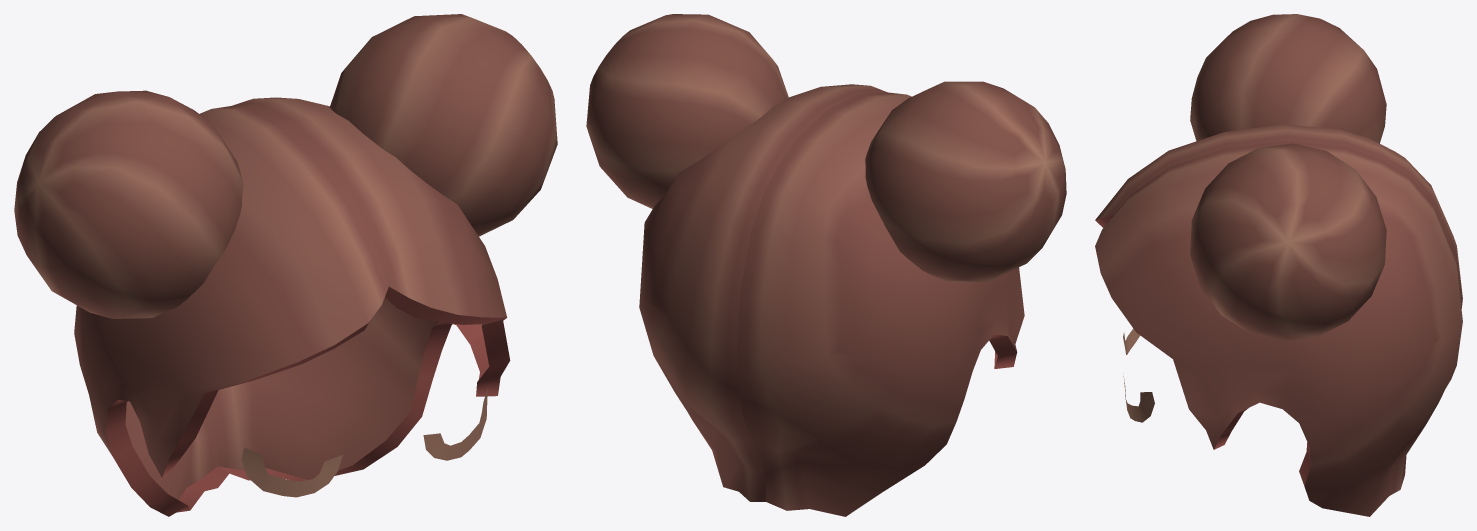
Rendered from SK_Character_hair.fbx.
The picture shows the model from 3 angles, left to right: view 1: azimuth 30°, elevation 25°; view 2: azimuth 150°, elevation 25°; view 3: azimuth 270°, elevation 25°; orthographic projection. The views are drawn at different scales.
Visible parts, largest first — view 1: head_geo.004; view 2: head_geo.004; view 3: head_geo.004.
Part boxes in pixels (bbox=[...]): head_geo.004: bbox=[14, 14, 557, 516]; head_geo.004: bbox=[586, 14, 1066, 516]; head_geo.004: bbox=[1095, 14, 1462, 516].
Size of the model in its own units: 0.2679 by 0.2341 by 0.195.
